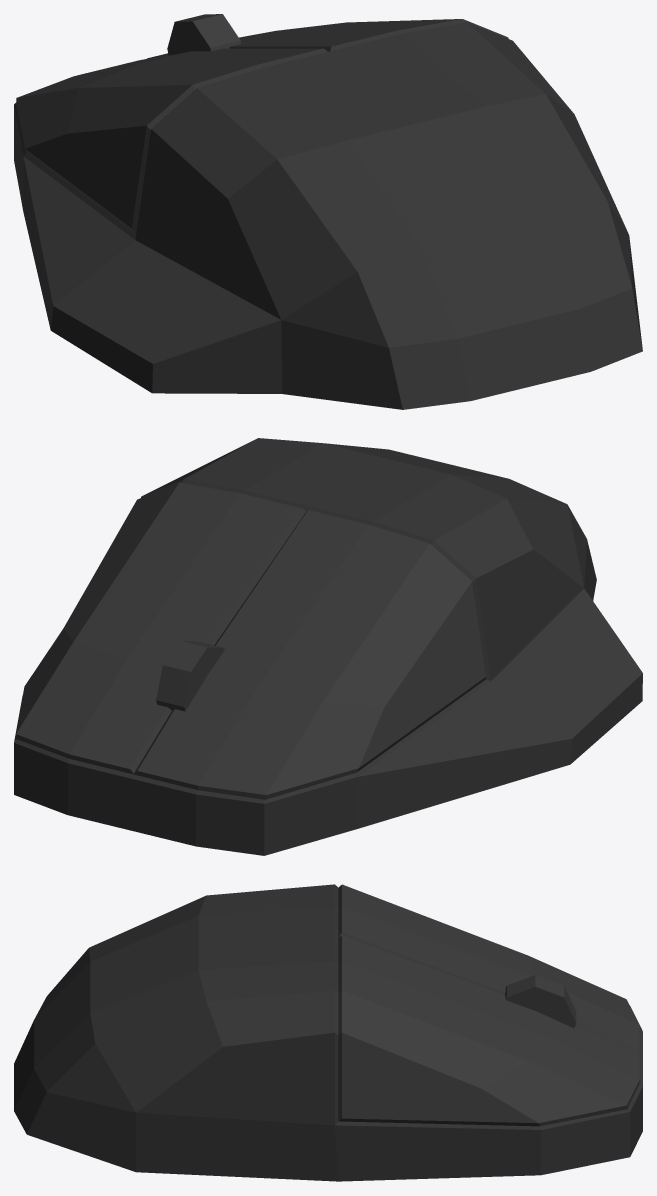
File: SM_Props_Interior_Shop_Electronic_Mouse_01.fbx
The picture shows the model from 3 angles, top to bottom: view 1: azimuth 30°, elevation 25°; view 2: azimuth 150°, elevation 25°; view 3: azimuth 270°, elevation 25°; orthographic projection. The views are drawn at different scales.
Parts seen in each view (by area): view 1: SM_Props_Interior_Shop_Electronic_Mouse_01; view 2: SM_Props_Interior_Shop_Electronic_Mouse_01; view 3: SM_Props_Interior_Shop_Electronic_Mouse_01.
Part boxes in pixels (left/top/right/bottom): SM_Props_Interior_Shop_Electronic_Mouse_01: left=14, top=14, right=642, bottom=409; SM_Props_Interior_Shop_Electronic_Mouse_01: left=14, top=438, right=642, bottom=855; SM_Props_Interior_Shop_Electronic_Mouse_01: left=14, top=884, right=642, bottom=1181.
Bounding box in the file's own units: 8.05 × 3.39 × 11.36.
